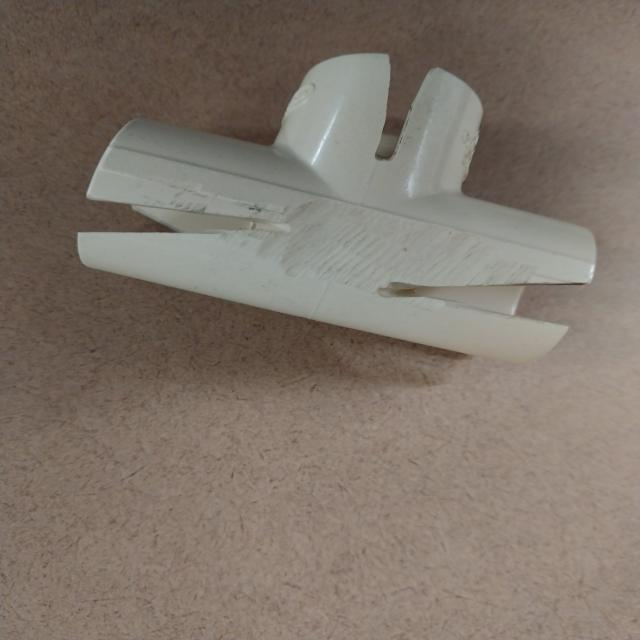Defective: (417, 237, 592, 328), (53, 178, 281, 241), (371, 58, 439, 170), (356, 266, 438, 305)
T Joint: (81, 51, 581, 353)
